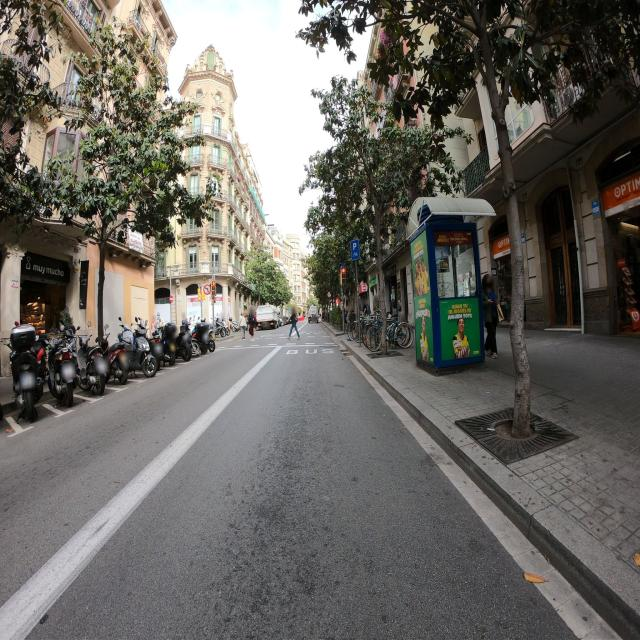bike: (18, 322, 76, 409), (52, 329, 107, 398), (104, 328, 158, 380), (89, 332, 129, 386), (168, 321, 200, 362), (147, 329, 176, 369), (384, 317, 414, 348), (348, 312, 373, 343), (367, 311, 382, 350), (208, 318, 225, 338)
